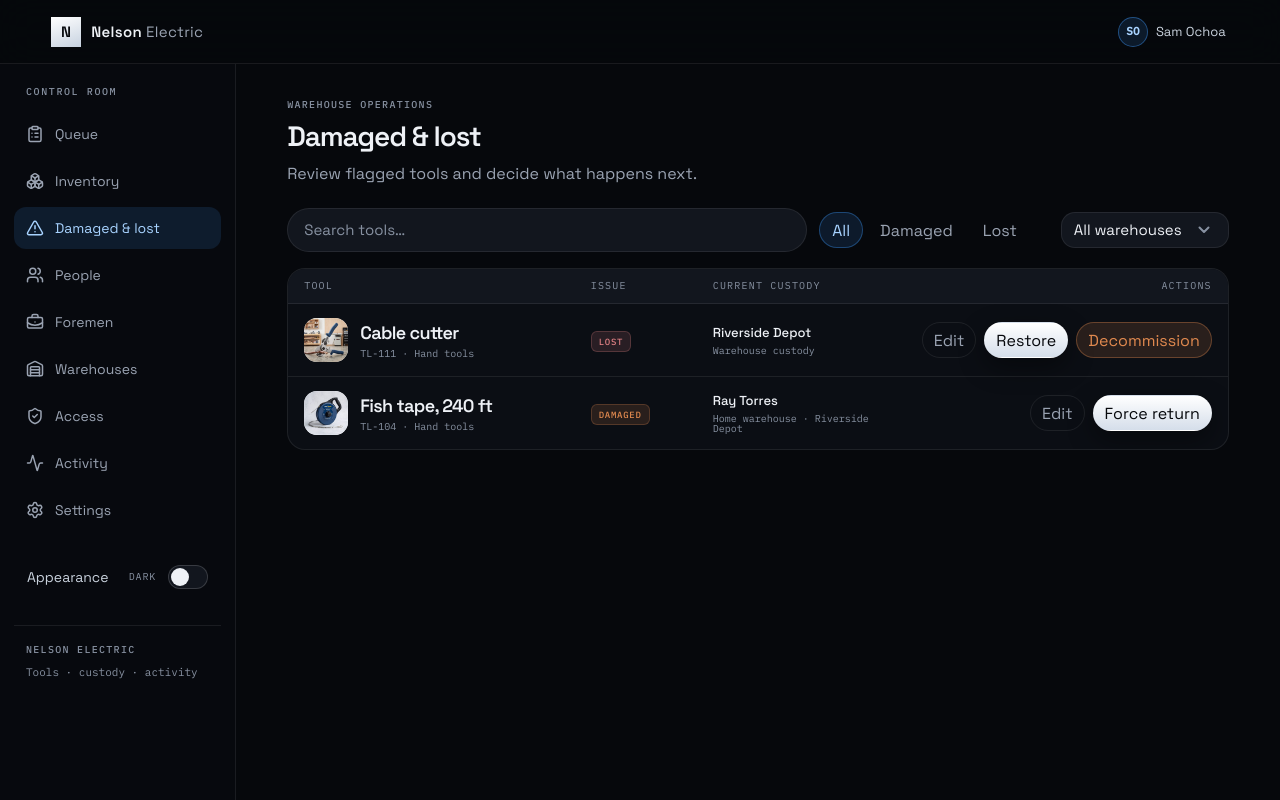
Scenario: flagged tools route › uses the warehouse inventory query and exposes lifecycle-safe restore/edit actions
Expected: the heading "Damaged & lost" is shown, [287,118,481,154]
Expected: the heading "Cable cutter" is shown, [360,321,474,344]
Click the tab "Damaged" at coordinates (916, 230), box [867,212,966,248]
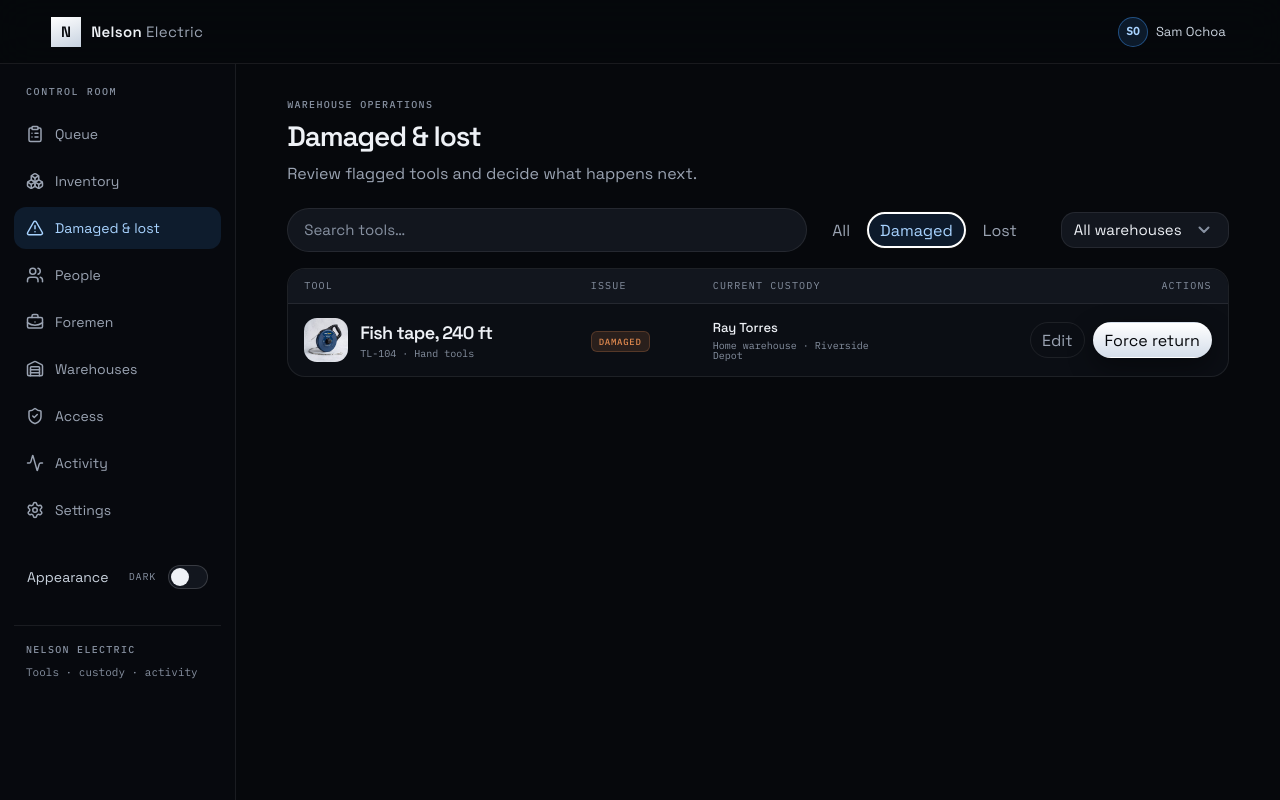
Expected: the heading "Fish tape, 240 ft" is shown, [360,321,492,344]
Now the heading "Cable cutter" is gone
Click the tab "All" at coordinates (841, 230), box [819,212,863,248]
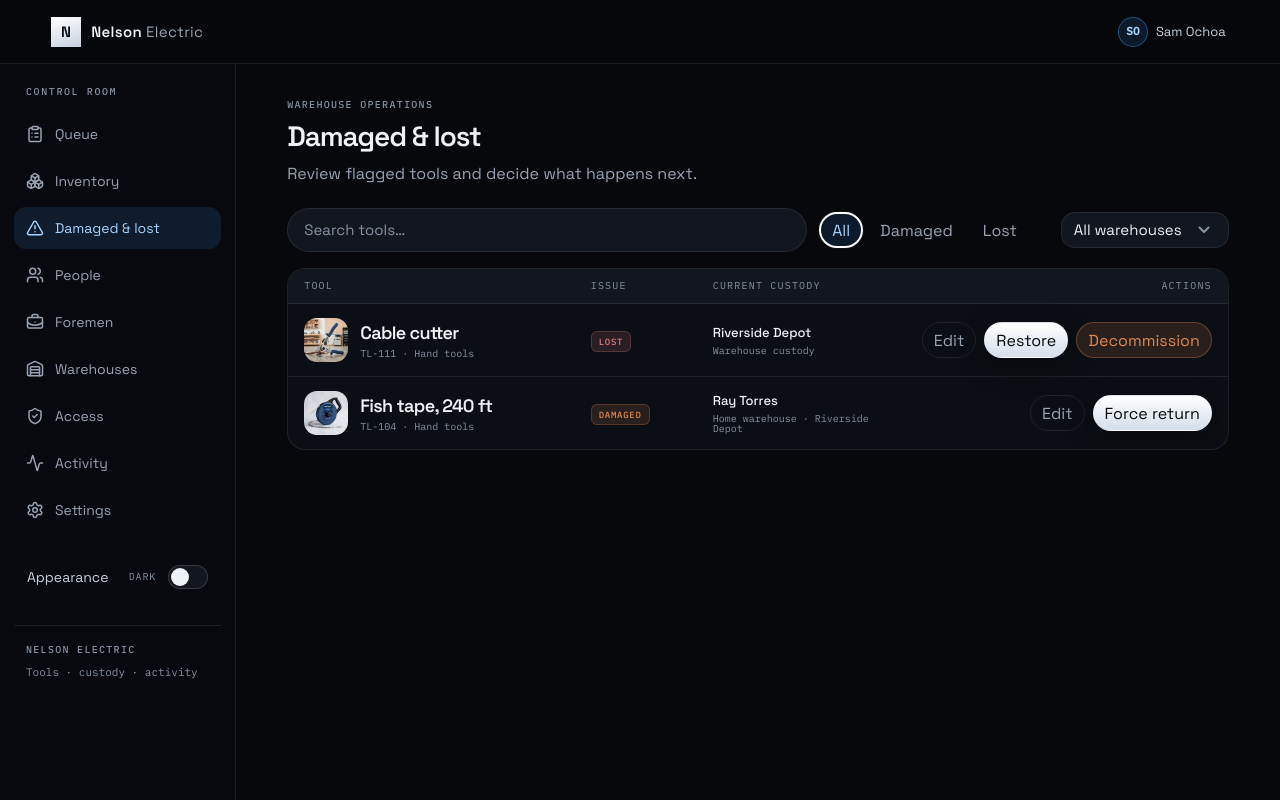
Click the button with aria-label "Restore to stock" at coordinates (1026, 340), box [984,322,1068,358]
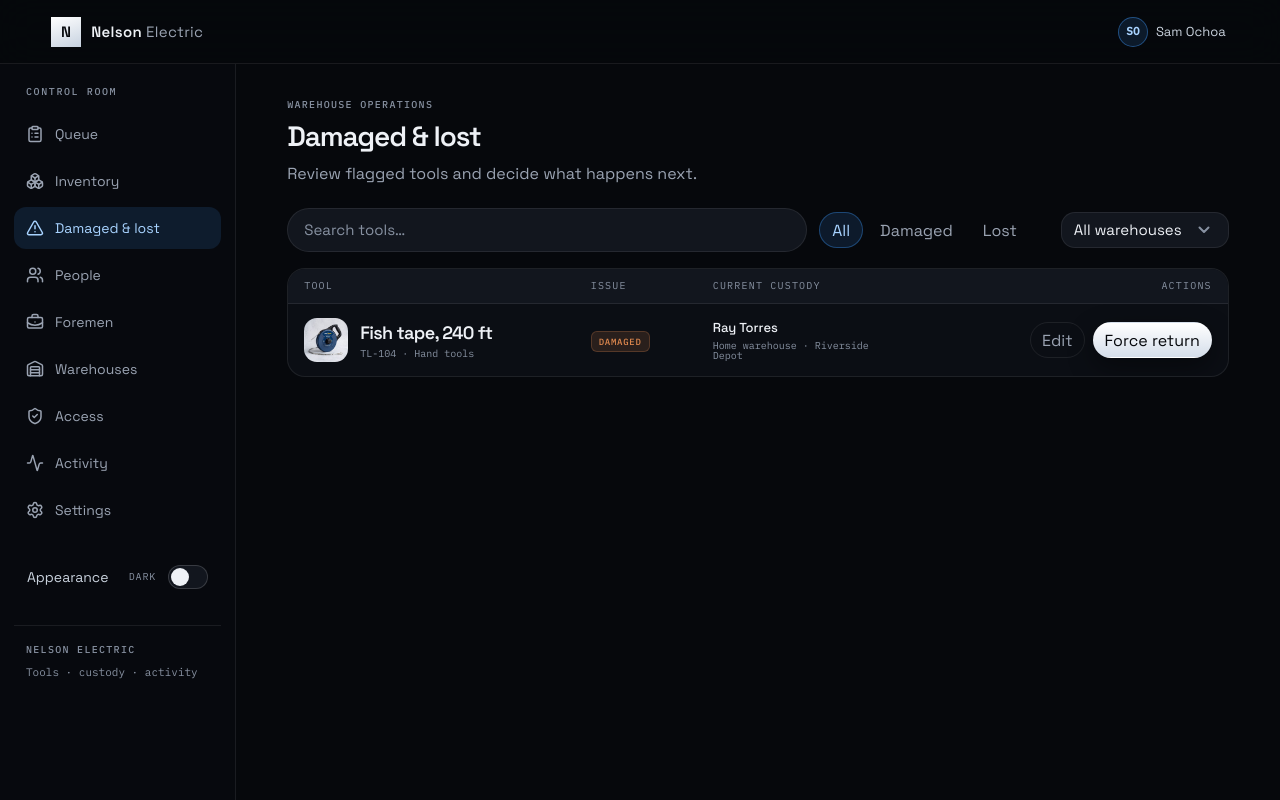
Now the heading "Cable cutter" is gone
Click the button "Edit" at coordinates (1057, 340), box [1030,322,1085,358]
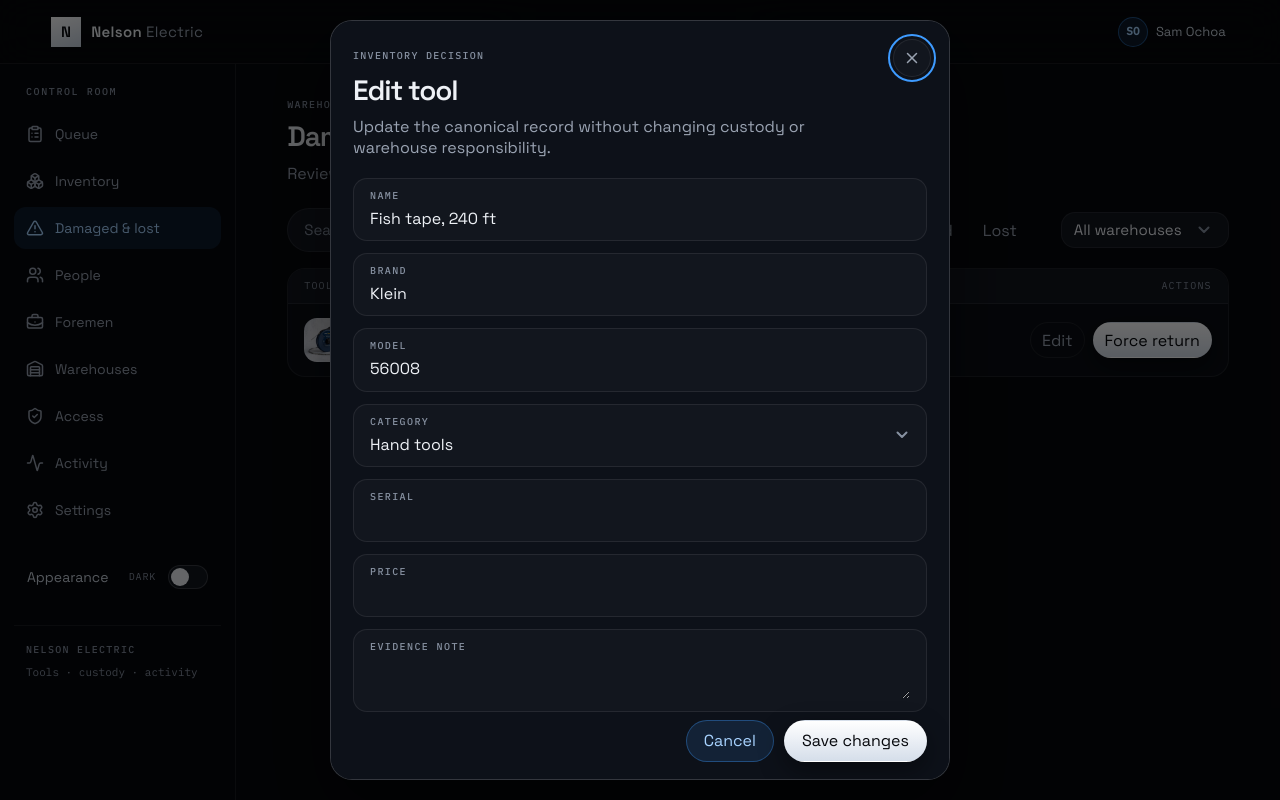
Click the button "Cancel" at coordinates (730, 740), box [686,720,774,762]
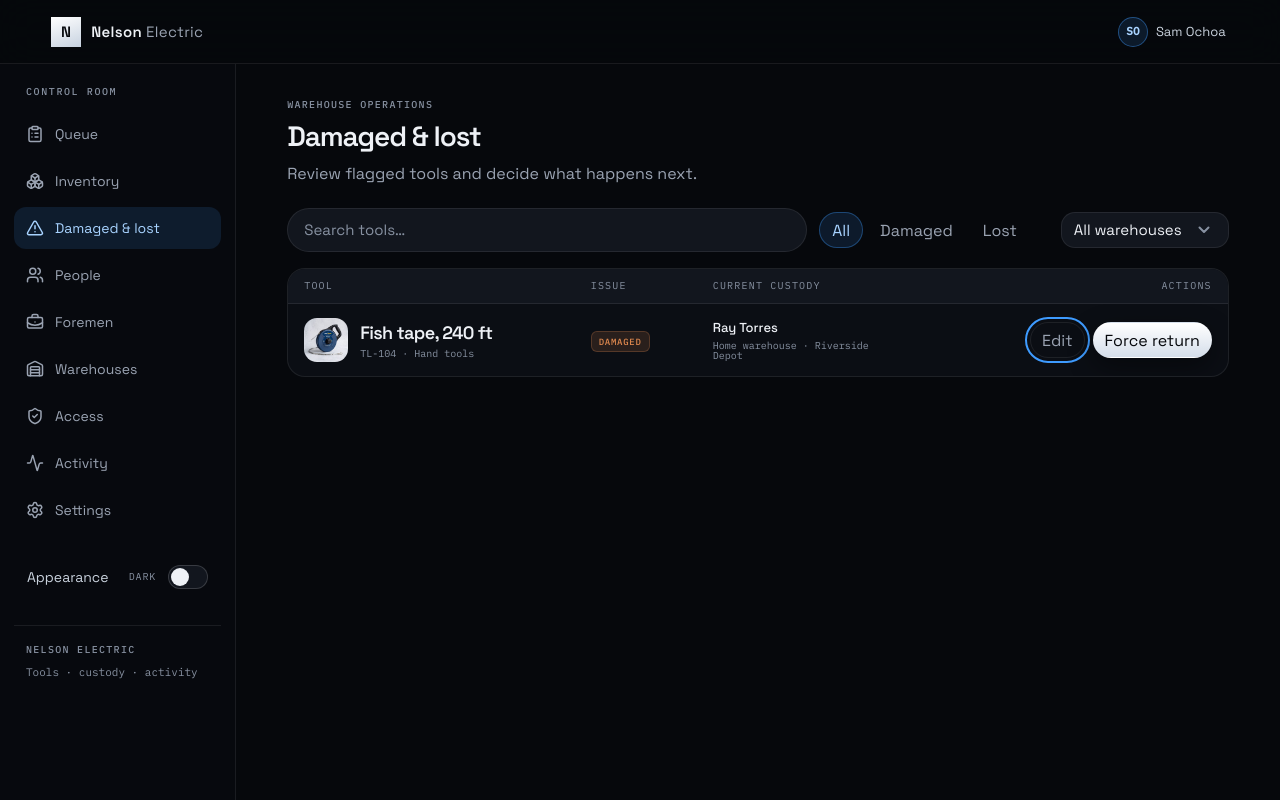
Now the dialog is gone
